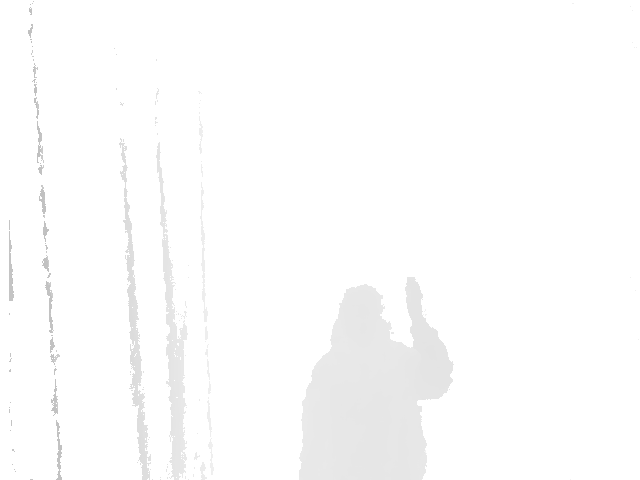hand: (402, 277, 427, 330)
head: (332, 286, 391, 345)
person: (296, 272, 457, 480)
